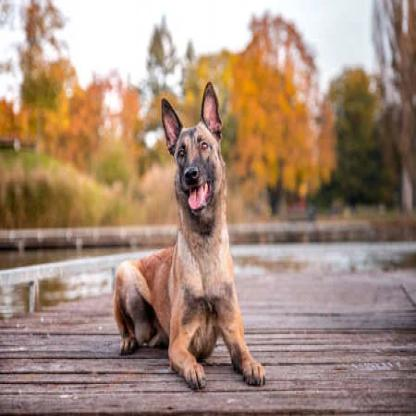Belgian Shepherd: (110, 76, 269, 383)
